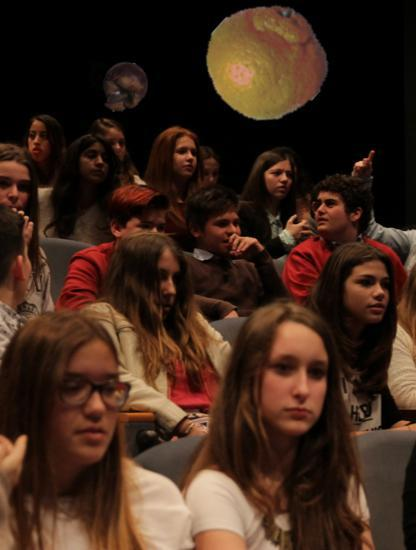Mandarine: (207, 1, 327, 121)
Mangostan: (98, 61, 151, 114)
